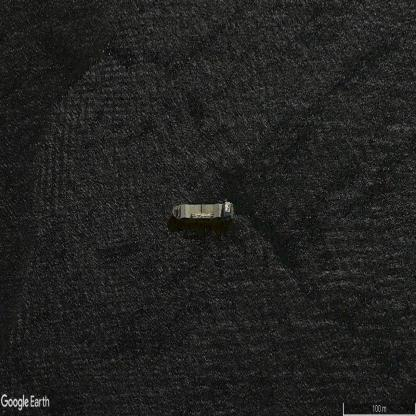ship: (172, 203, 234, 220)
